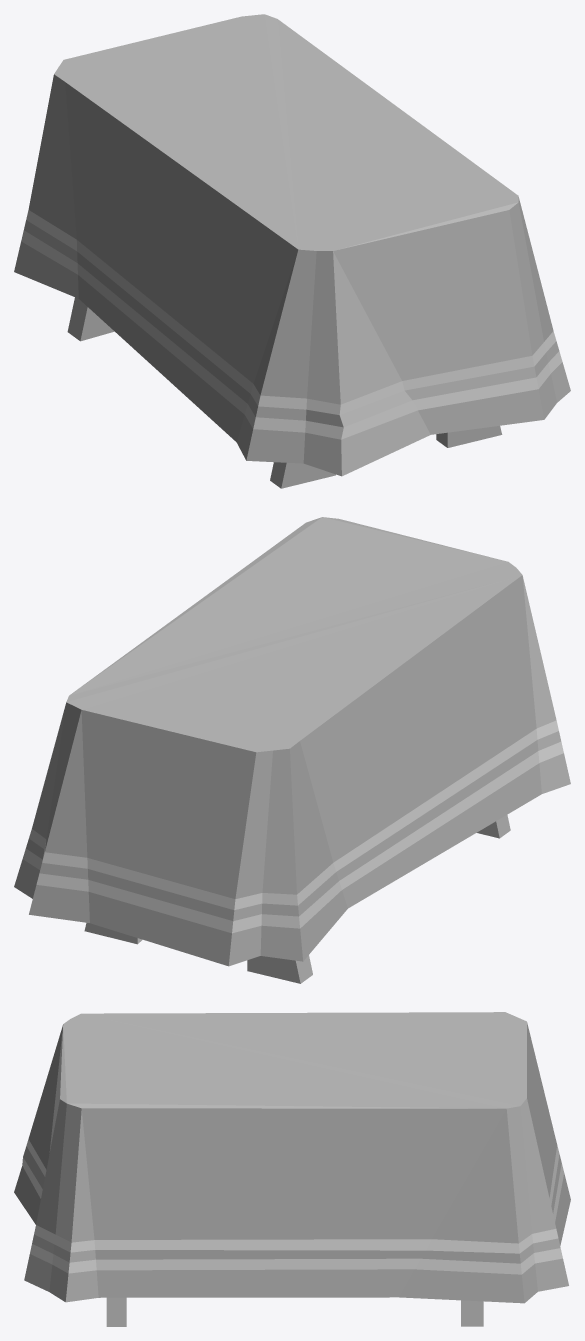
File: PT_Church_Table_02.fbx
The picture shows the model from 3 angles, top to bottom: view 1: azimuth 30°, elevation 25°; view 2: azimuth 150°, elevation 25°; view 3: azimuth 270°, elevation 25°; orthographic projection. The views are drawn at different scales.
Visible parts, largest first — view 1: PT_Church_Table_02; view 2: PT_Church_Table_02; view 3: PT_Church_Table_02.
Part boxes in pixels (bbox=[...]): PT_Church_Table_02: bbox=[14, 14, 570, 488]; PT_Church_Table_02: bbox=[14, 517, 570, 983]; PT_Church_Table_02: bbox=[14, 1012, 570, 1326].
Bounding box in the file's own units: 154 × 116 × 266.
